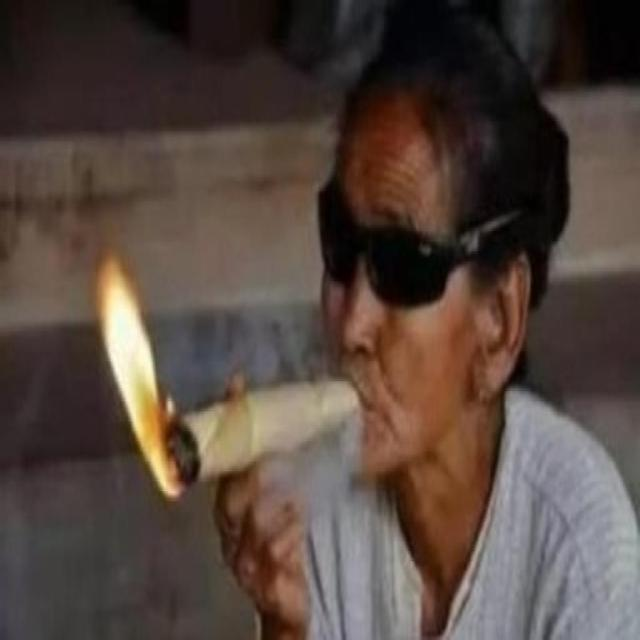smoking: (94, 25, 552, 504)
